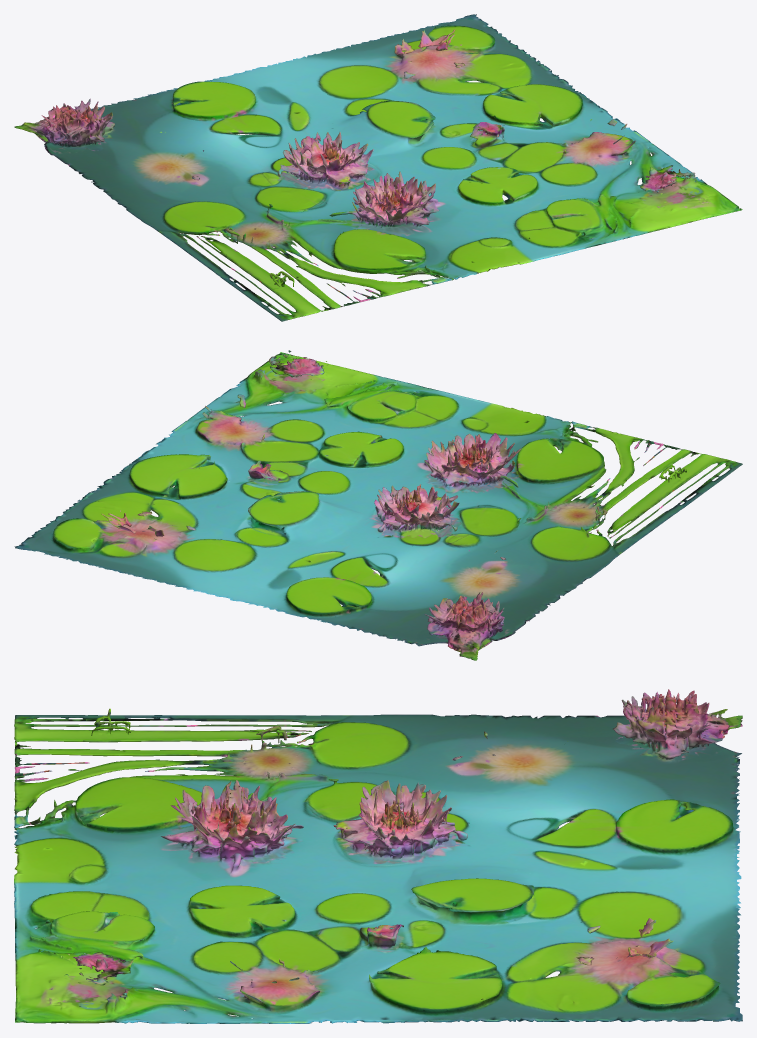
File: Serene_Lilies_Pond.glb
The picture shows the model from 3 angles, top to bottom: view 1: azimuth 30°, elevation 25°; view 2: azimuth 150°, elevation 25°; view 3: azimuth 270°, elevation 25°; orthographic projection. The views are drawn at different scales.
Size of the model in its own units: 2 by 0.1411 by 2.
1 material, 1 textured.
